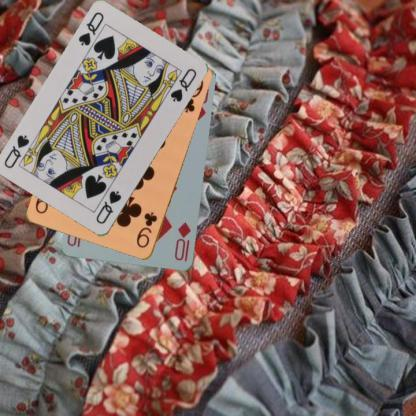10d: (172, 219, 192, 263)
9c: (134, 209, 159, 250)
Qs: (93, 188, 123, 226), (76, 10, 105, 48)
